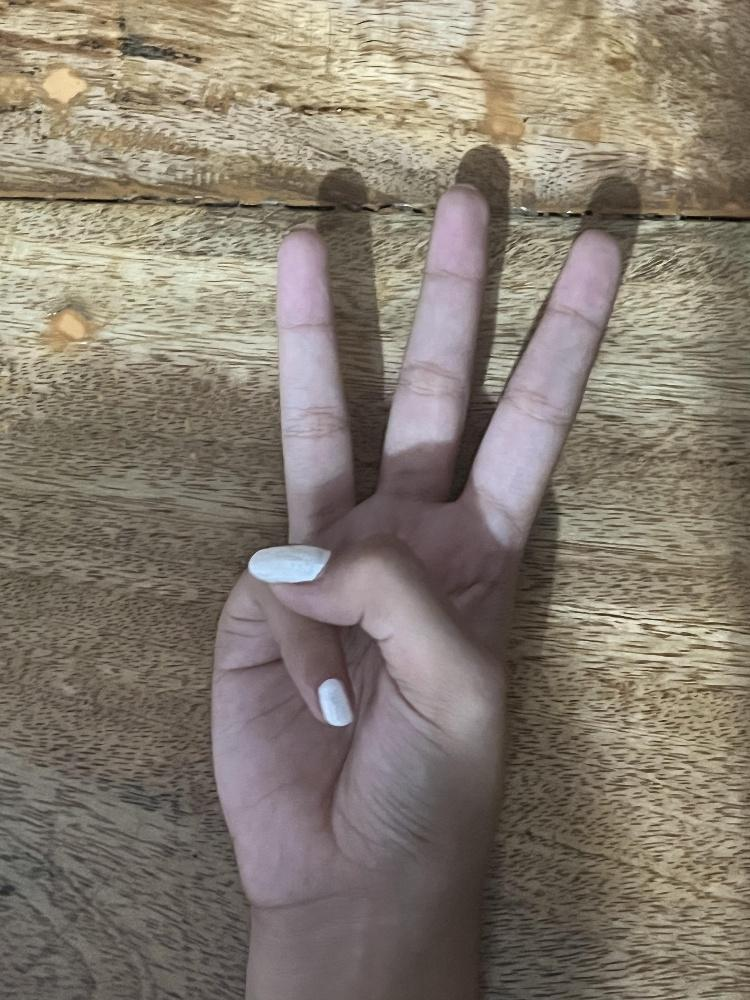w: (206, 177, 625, 905)
